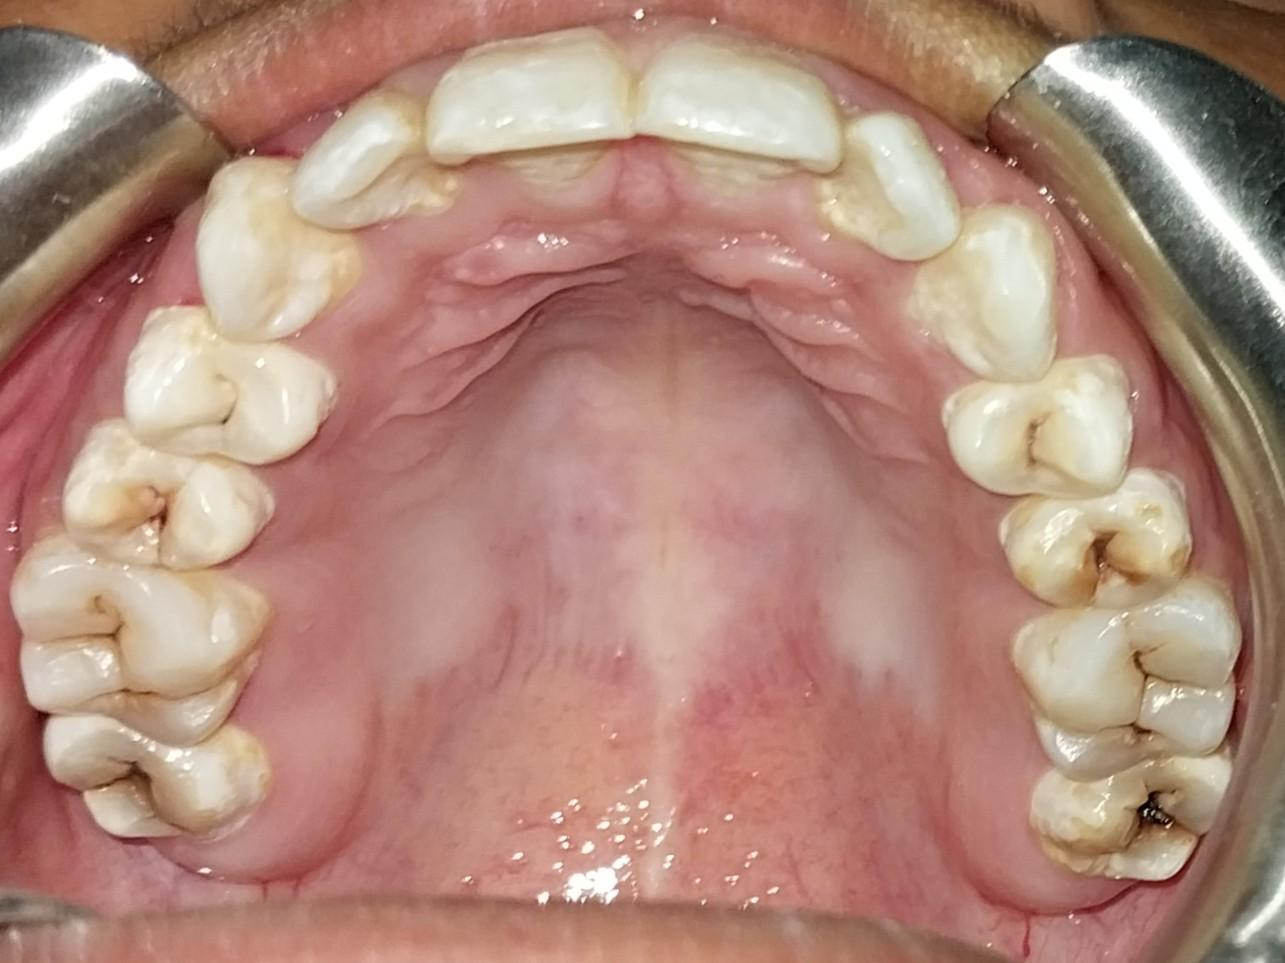D: (8, 542, 258, 740), (1006, 599, 1240, 783), (124, 320, 329, 468), (37, 715, 260, 843), (70, 435, 268, 565), (1003, 486, 1201, 611), (949, 363, 1142, 489), (1022, 765, 1219, 886)
